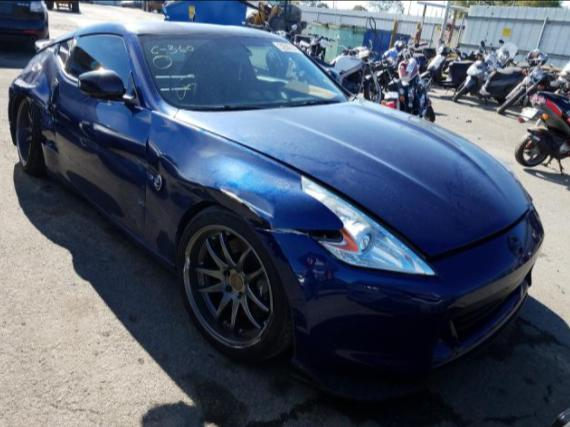Broken part: (202, 129, 533, 268), (494, 202, 546, 284), (248, 216, 347, 245), (144, 108, 155, 173), (57, 38, 73, 69), (259, 311, 273, 341), (184, 249, 190, 272)
Dent: (103, 135, 192, 202), (13, 41, 61, 98)
Scratch: (222, 185, 275, 221)
